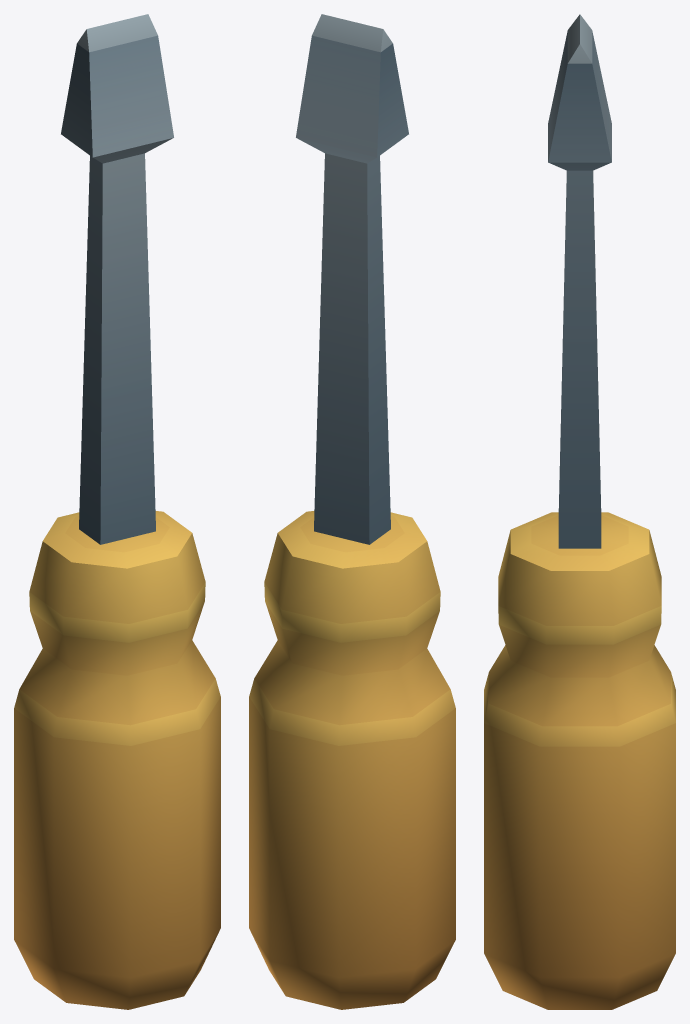
File: screwdriver_A_long_color.glb
3 renders of one model, left to right at view 1: azimuth 30°, elevation 25°; view 2: azimuth 150°, elevation 25°; view 3: azimuth 270°, elevation 25°, orthographic.
Parts seen in each view (by area): view 1: screwdriver_A_long_color; view 2: screwdriver_A_long_color; view 3: screwdriver_A_long_color.
Boxes of the visible parts, box(x1,y1,x2,y2) form: screwdriver_A_long_color: box(14, 14, 220, 1009); screwdriver_A_long_color: box(249, 14, 455, 1009); screwdriver_A_long_color: box(484, 14, 675, 1009).
Bounding box in the file's own units: 0.1513 × 0.8434 × 0.1513.
1 material, 1 textured.
